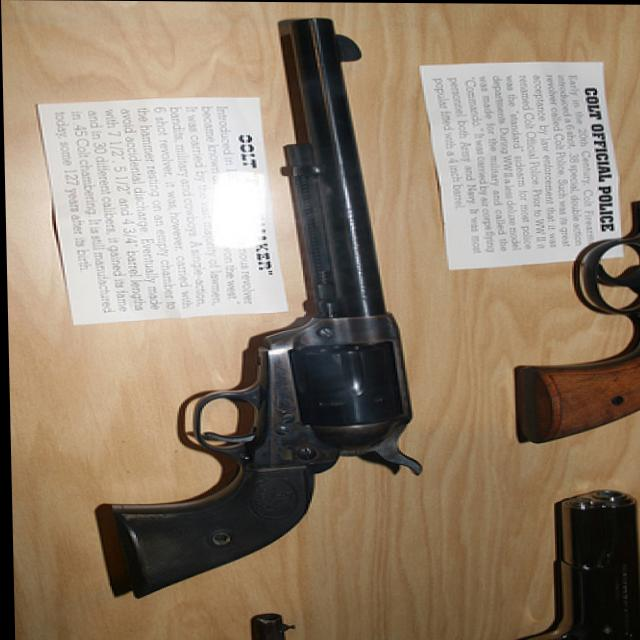handgun: (100, 14, 425, 596), (511, 193, 640, 440), (497, 481, 640, 640)
